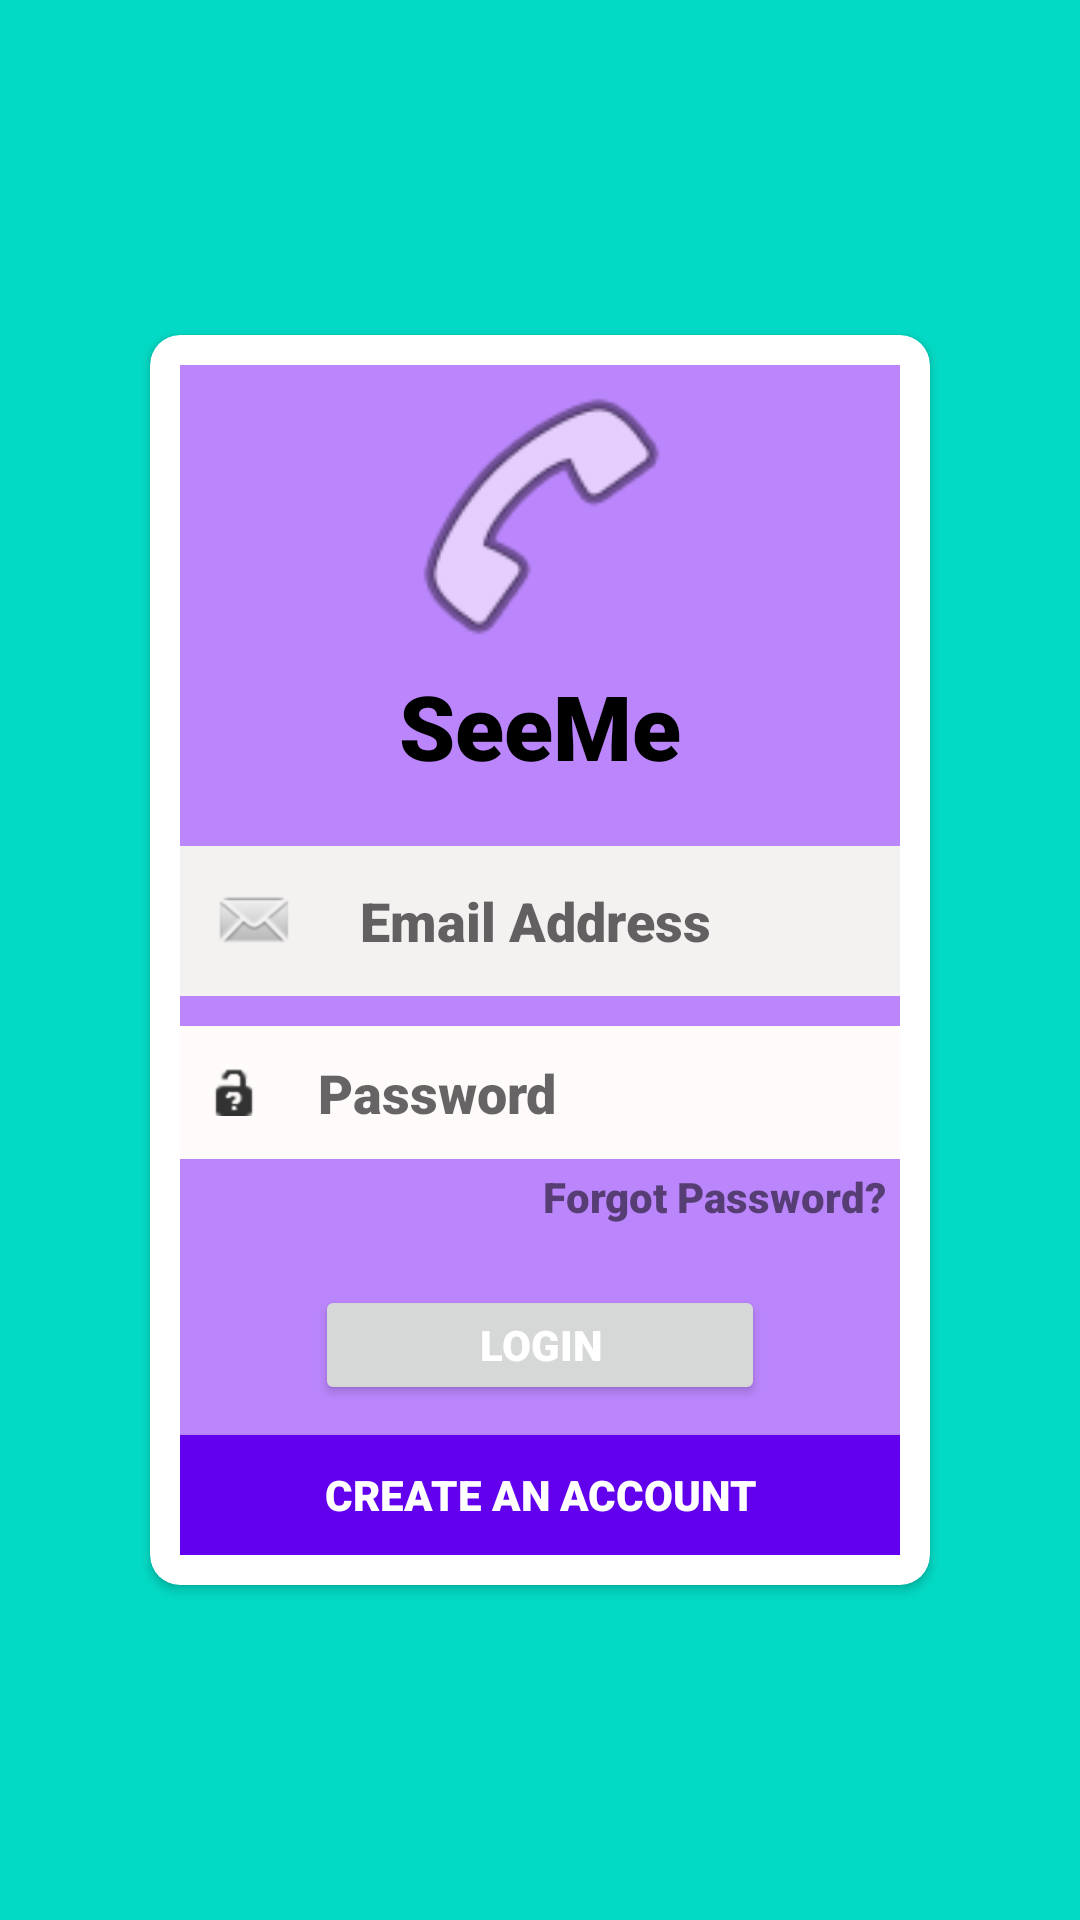

Locate icon controls on the screen. Image size 1080 × 1920, boxes as (x1, y1, x2, y2).
call: (424, 399, 659, 634)
